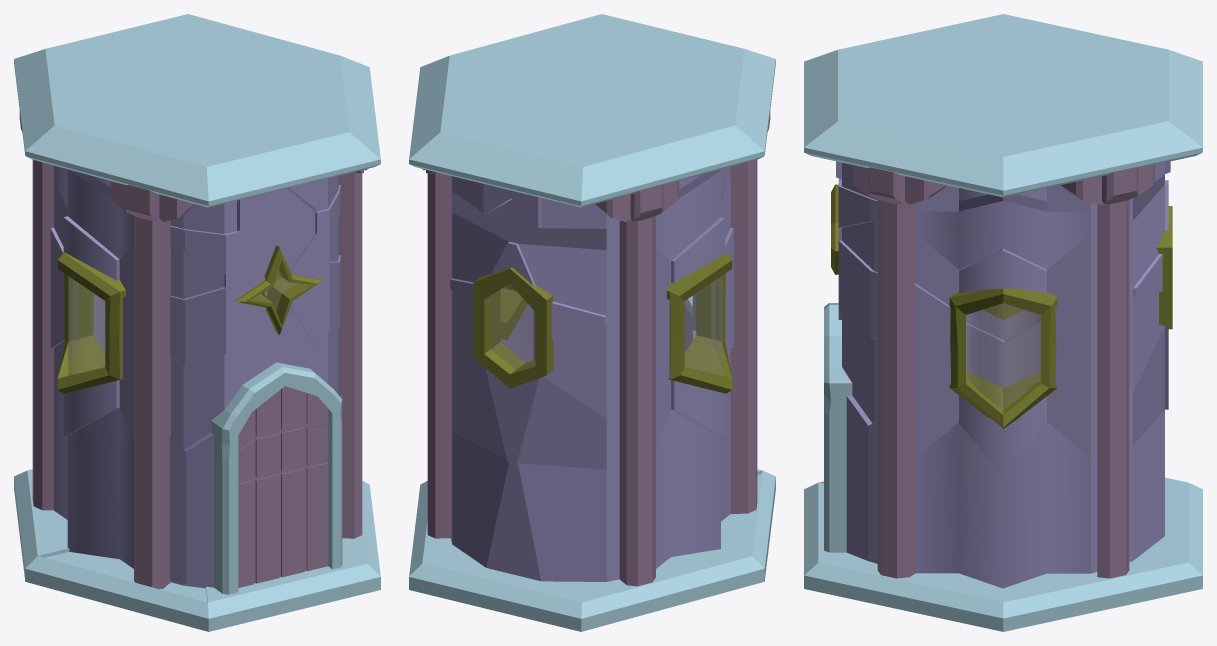
Rendered from NEWBaseTower.fbx.
The picture shows the model from 3 angles, left to right: view 1: azimuth 30°, elevation 25°; view 2: azimuth 150°, elevation 25°; view 3: azimuth 270°, elevation 25°; orthographic projection. The views are drawn at different scales.
Parts seen in each view (by area): view 1: Cylinder, Top, pillars, Base, door, doorFrame, windowFrame, Glass1, starFrame; view 2: Cylinder, Top, pillars, Base, windowFrame, otherWinFrame, Glass1, Glass2; view 3: Cylinder, Top, pillars, Base, windowFrame, Glass1, doorFrame, otherWinFrame, starFrame.
Boxes of the visible parts, <box> form: Cylinder: <box>50,165,342,588</box>; Top: <box>14,14,380,207</box>; pillars: <box>19,111,367,589</box>; Base: <box>14,469,380,631</box>; door: <box>238,386,328,587</box>; doorFrame: <box>211,362,342,594</box>; windowFrame: <box>57,253,281,393</box>; Glass1: <box>68,276,104,375</box>; starFrame: <box>235,245,322,334</box>; Cylinder: <box>450,167,733,581</box>; Top: <box>409,14,775,207</box>; pillars: <box>422,111,770,586</box>; Base: <box>409,469,775,631</box>; windowFrame: <box>500,253,732,393</box>; otherWinFrame: <box>473,267,553,388</box>; Glass1: <box>501,276,721,375</box>; Glass2: <box>491,284,535,369</box>; Cylinder: <box>836,161,1170,588</box>; Top: <box>804,14,1202,197</box>; pillars: <box>852,165,1154,578</box>; Base: <box>804,477,1202,631</box>; windowFrame: <box>949,288,1057,428</box>; Glass1: <box>966,303,1040,409</box>; doorFrame: <box>824,303,852,552</box>; otherWinFrame: <box>1157,206,1172,329</box>; starFrame: <box>831,184,838,274</box>.
Size of the model in its own units: 292 by 364 by 286.
